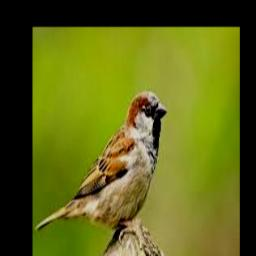Sparrow: (35, 90, 168, 244)
